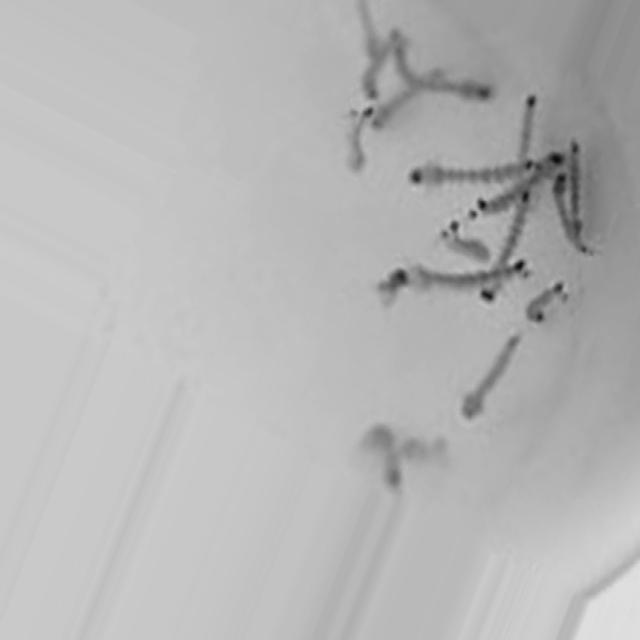larvas: (478, 145, 563, 220), (396, 48, 495, 109), (478, 197, 533, 304), (381, 261, 526, 293), (464, 335, 519, 418), (551, 173, 593, 266), (358, 28, 404, 102), (373, 85, 416, 137), (408, 163, 534, 180), (366, 425, 399, 485), (444, 222, 489, 260), (350, 108, 372, 170), (359, 2, 385, 54), (518, 93, 536, 156), (531, 282, 562, 318), (569, 139, 582, 222)
